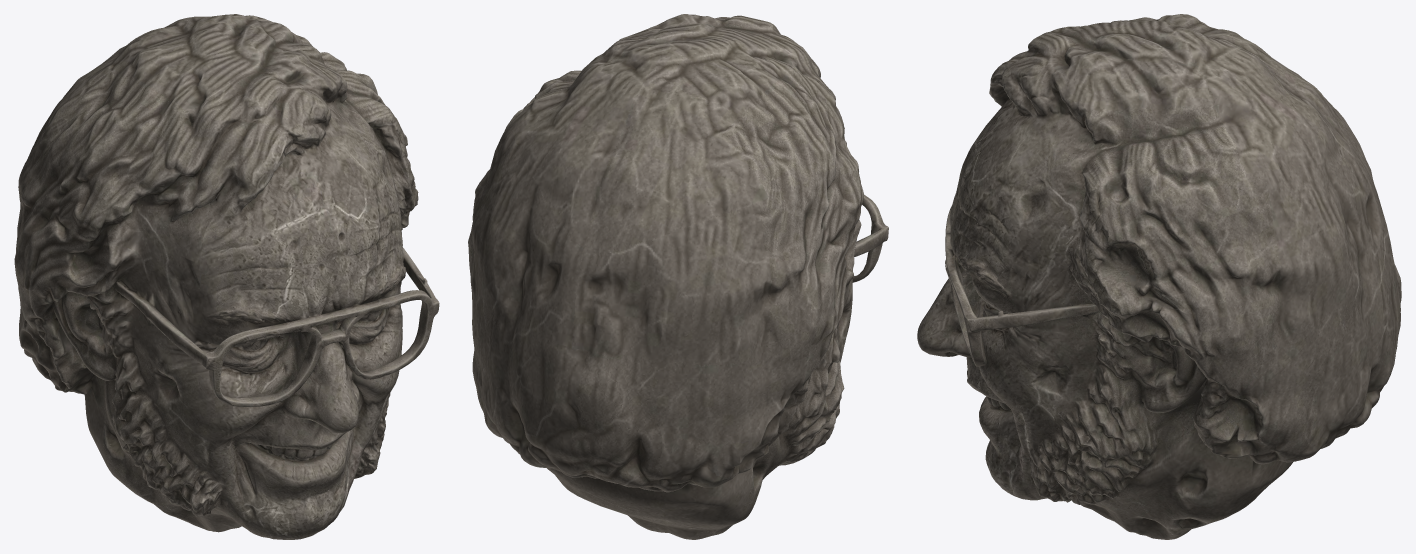
Rendered from Pillinger.glb.
The picture shows the model from 3 angles, left to right: view 1: azimuth 30°, elevation 25°; view 2: azimuth 150°, elevation 25°; view 3: azimuth 270°, elevation 25°; orthographic projection.
Bounding box in the file's own units: 1.43 × 1.9 × 1.68.
1 material, 1 textured.
